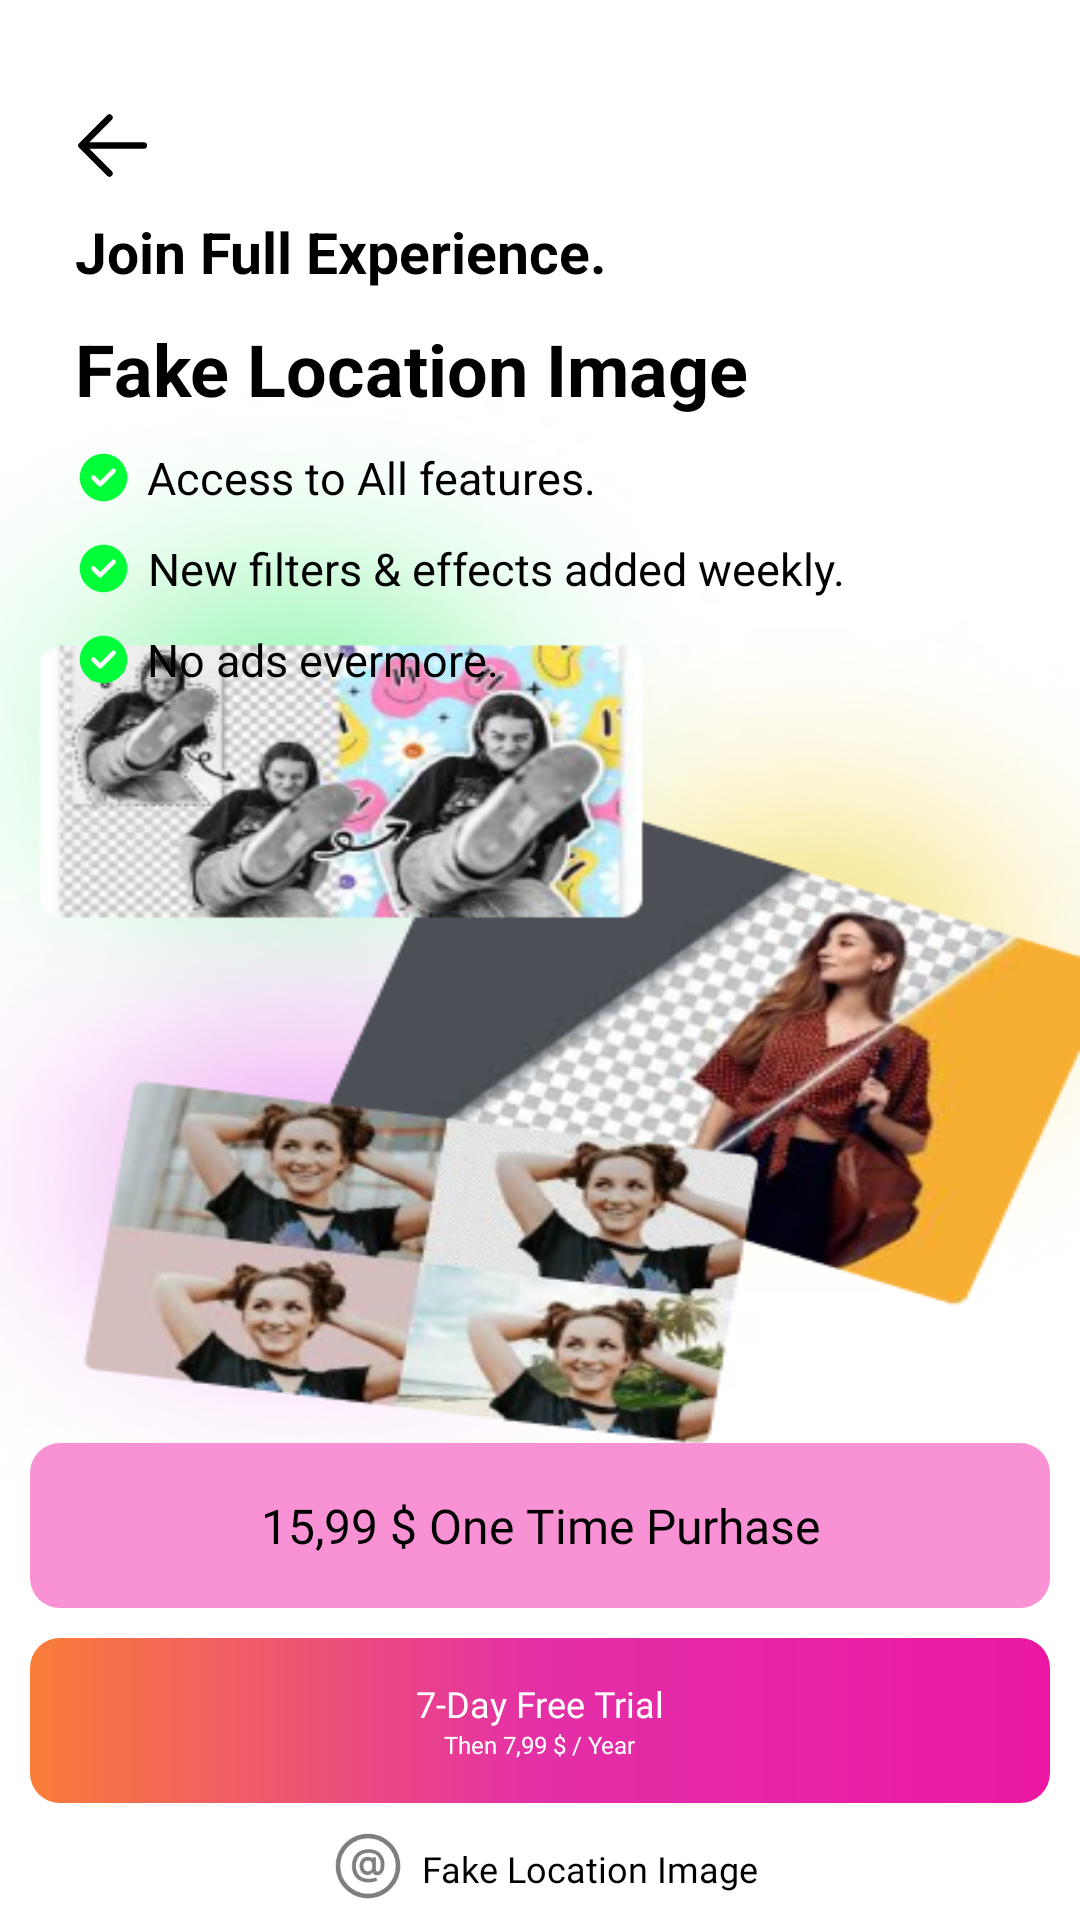

Icon bounding boxes for this 1080 × 1920 phone screenshot, format (x1, y1, x2, y2):
back: (78, 114, 147, 177)
